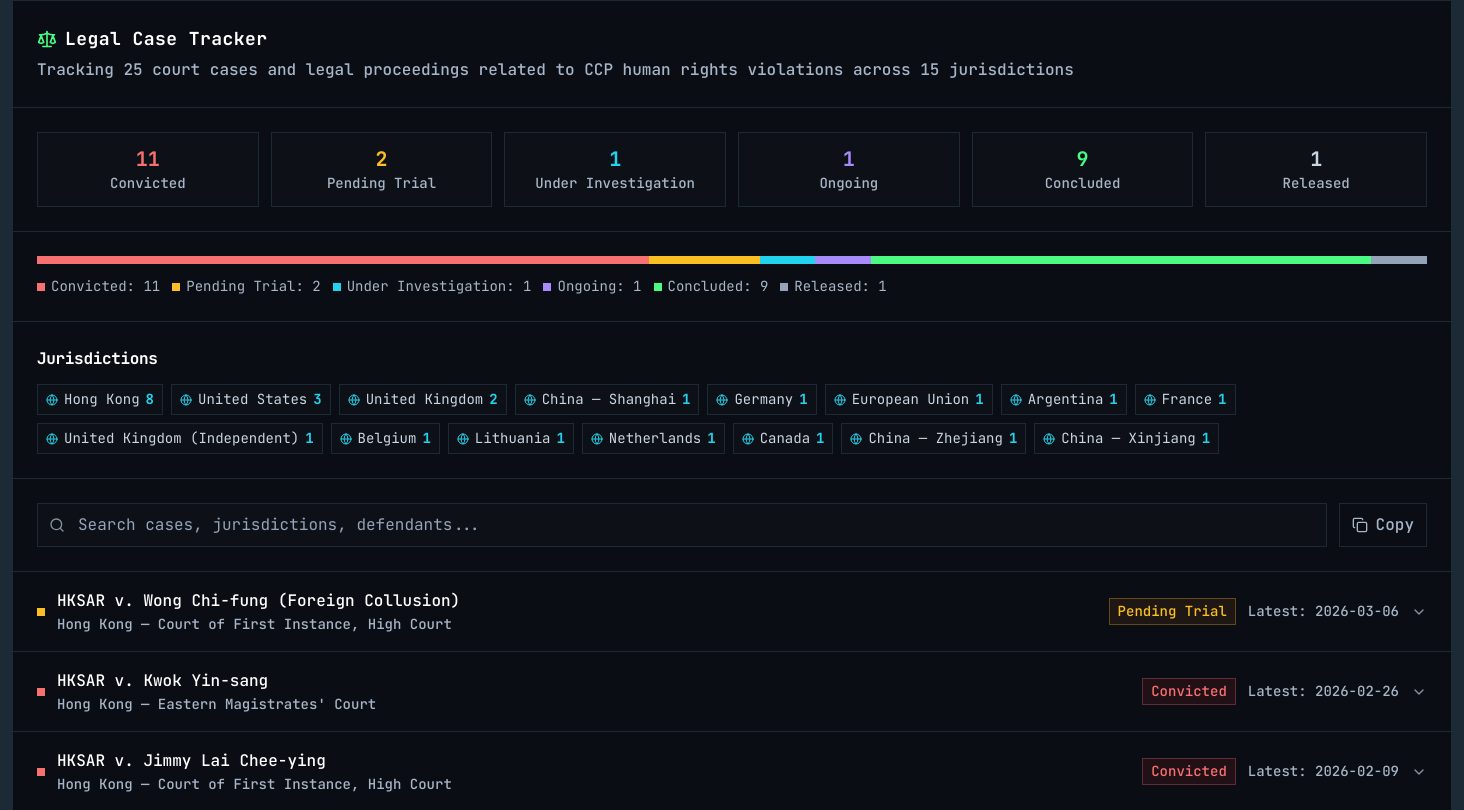
Scenario: LegalCaseTracker › expanded case shows defendant information
The width and height of the screenshot is (1464, 810).
Click the button that starts with "HKSAR v. Jimmy Lai Chee-ying".
click(191, 760)  # box [13,732,1451,809]
(page scrolled)
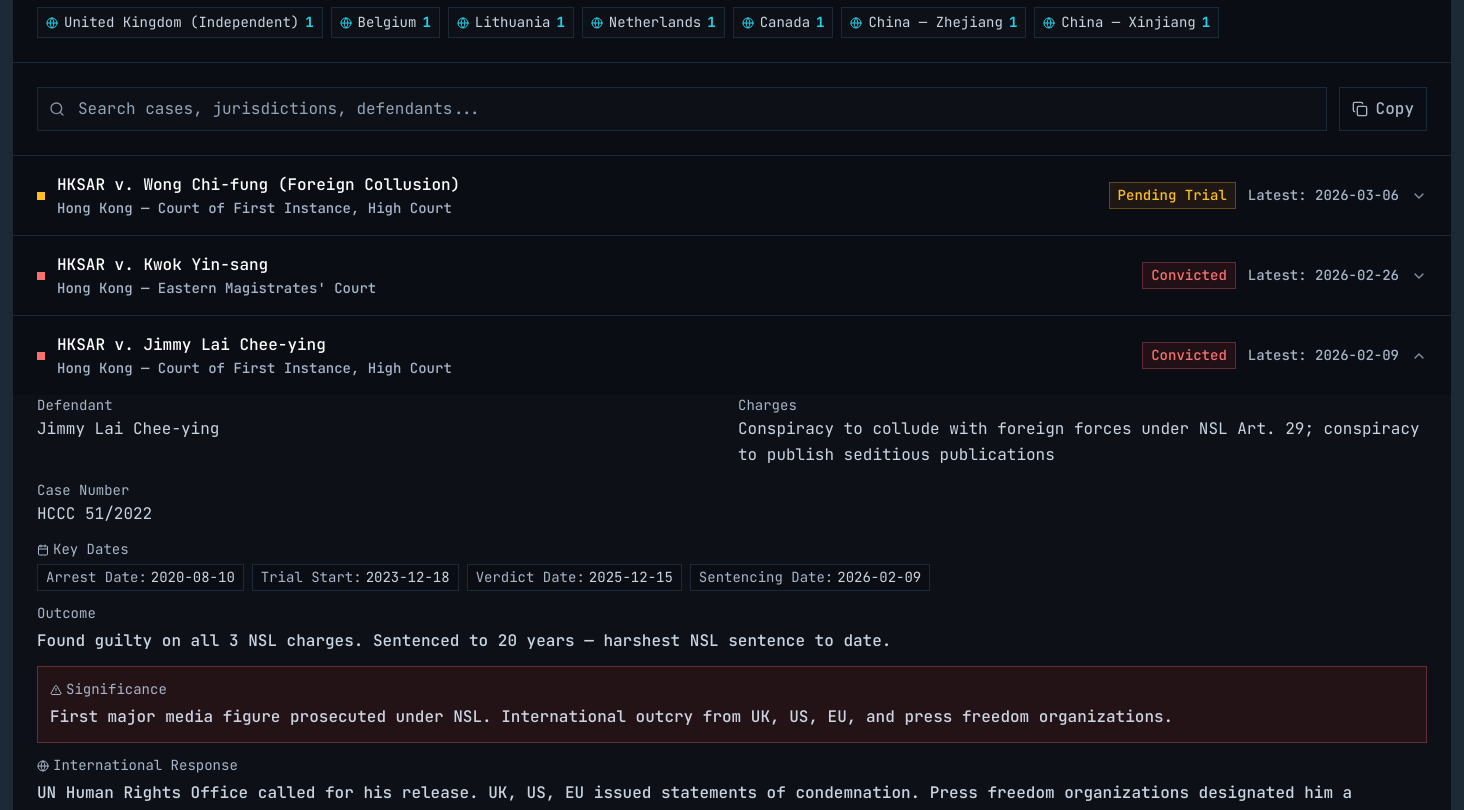
Expected: the text "Defendant" is shown, [37,396,113,414]
